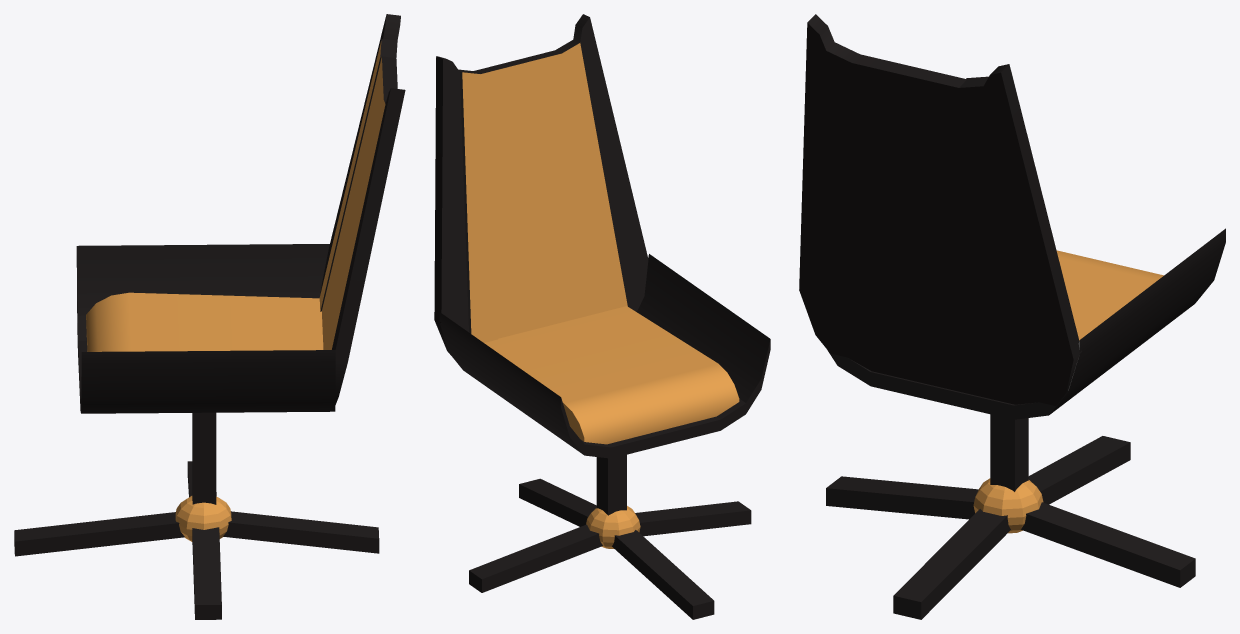
Rendered from chair.fbx.
3 views of the same model, side by side, from view 1: azimuth 30°, elevation 25°; view 2: azimuth 150°, elevation 25°; view 3: azimuth 270°, elevation 25° (orthographic). The views are drawn at different scales.
Visible parts, largest first — view 1: chair; view 2: chair; view 3: chair.
Boxes of the visible parts, <box> form: chair: <box>14,14,405,619</box>; chair: <box>434,14,770,619</box>; chair: <box>799,14,1225,619</box>.
Size of the model in its own units: 0.9944 by 1.37 by 0.9014.
